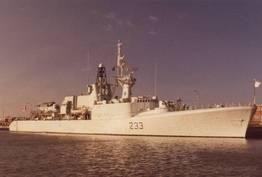warship: (5, 40, 257, 138)
